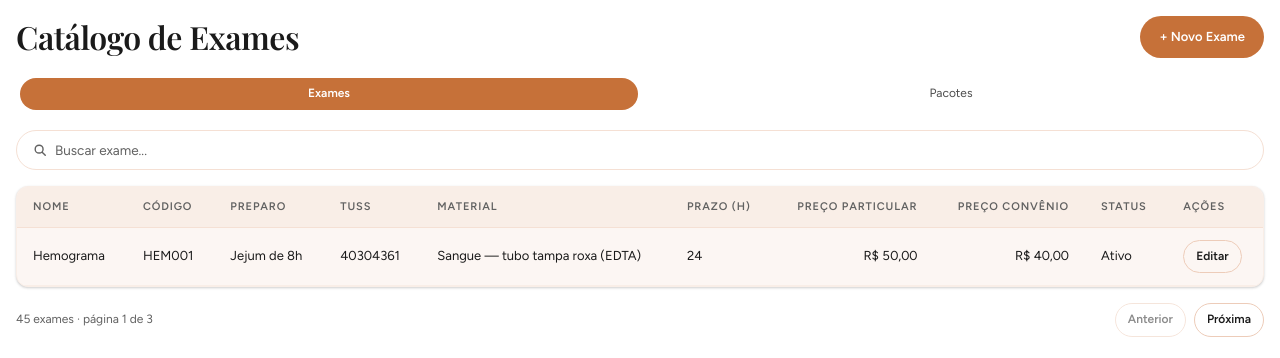
Test: Catalog › avança de página pelo controle de paginação e TROCA o conteúdo exibido
Expected: the text "45 exames · página 1 de 3" is shown, [16,311,153,329]
Expected: the cell "Hemograma" is shown, [17,227,127,286]
Click the button "Próxima" at (1229, 320), box [1194,303,1264,337]
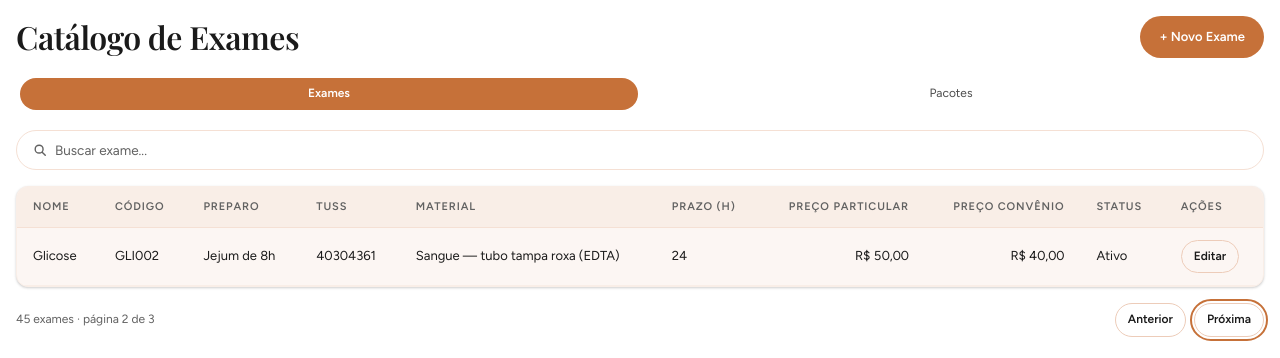
Expected: the cell "Glicose" is shown, [17,227,99,286]
Expected: the cell "Hemograma" is gone
Expected: the text "45 exames · página 2 de 3" is shown, [16,311,154,329]
